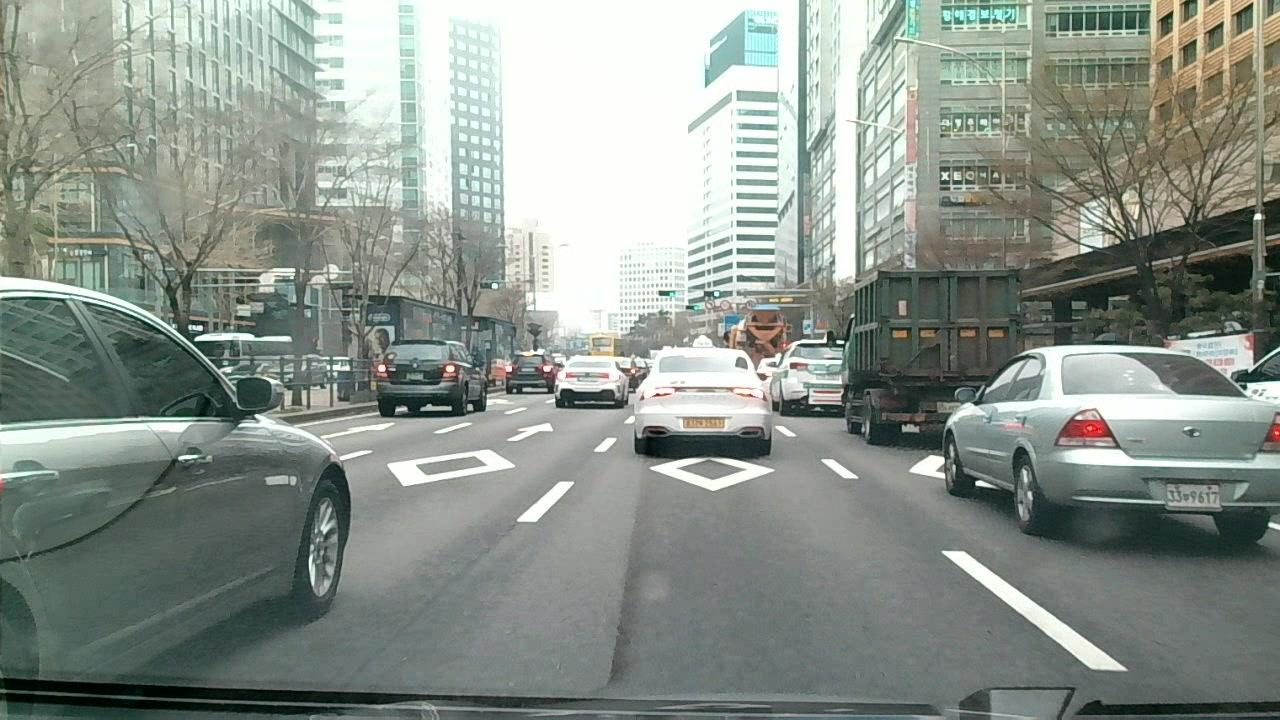vcrack: (603, 503, 642, 688)
